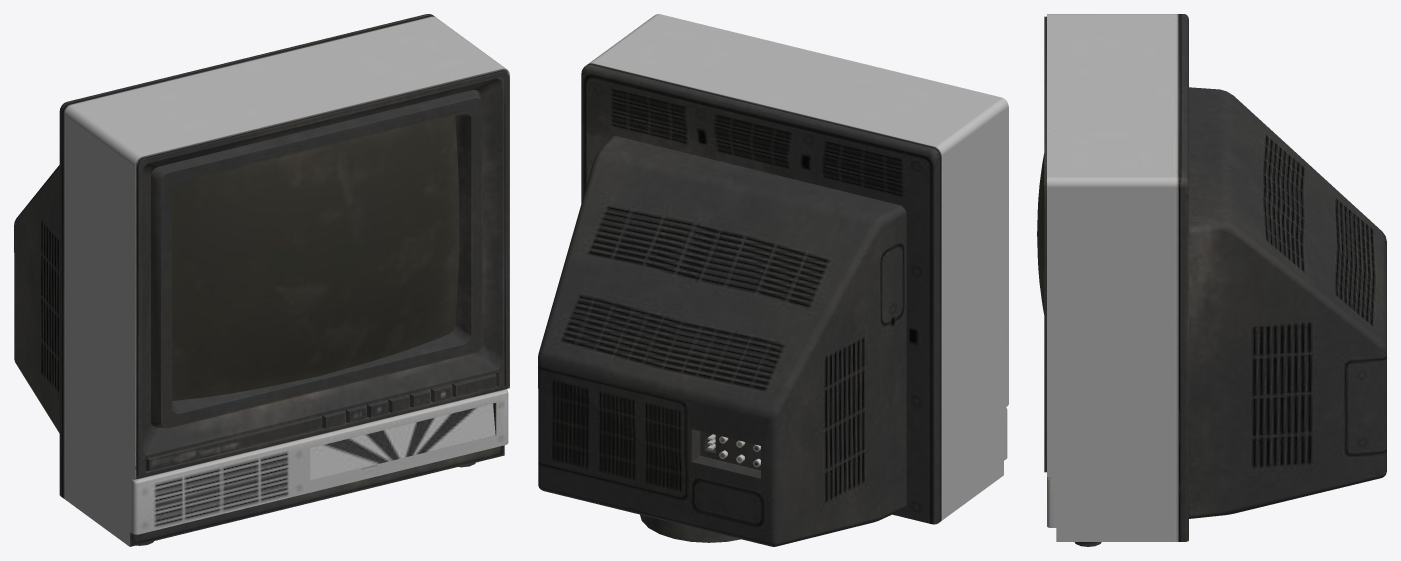
Rendered from television_02.glb.
3 views of the same model, side by side, from view 1: azimuth 30°, elevation 25°; view 2: azimuth 150°, elevation 25°; view 3: azimuth 270°, elevation 25° (orthographic). The views are drawn at different scales.
Parts seen in each view (by area): view 1: television_02; view 2: television_02; view 3: television_02.
Boxes of the visible parts, left/top/right/bottom form: television_02: left=14, top=14, right=509, bottom=546; television_02: left=538, top=14, right=1008, bottom=546; television_02: left=1037, top=14, right=1386, bottom=546.
Bounding box in the file's own units: 0.3997 × 0.4114 × 0.3502.
Materials: 1 (1 with a texture image).
